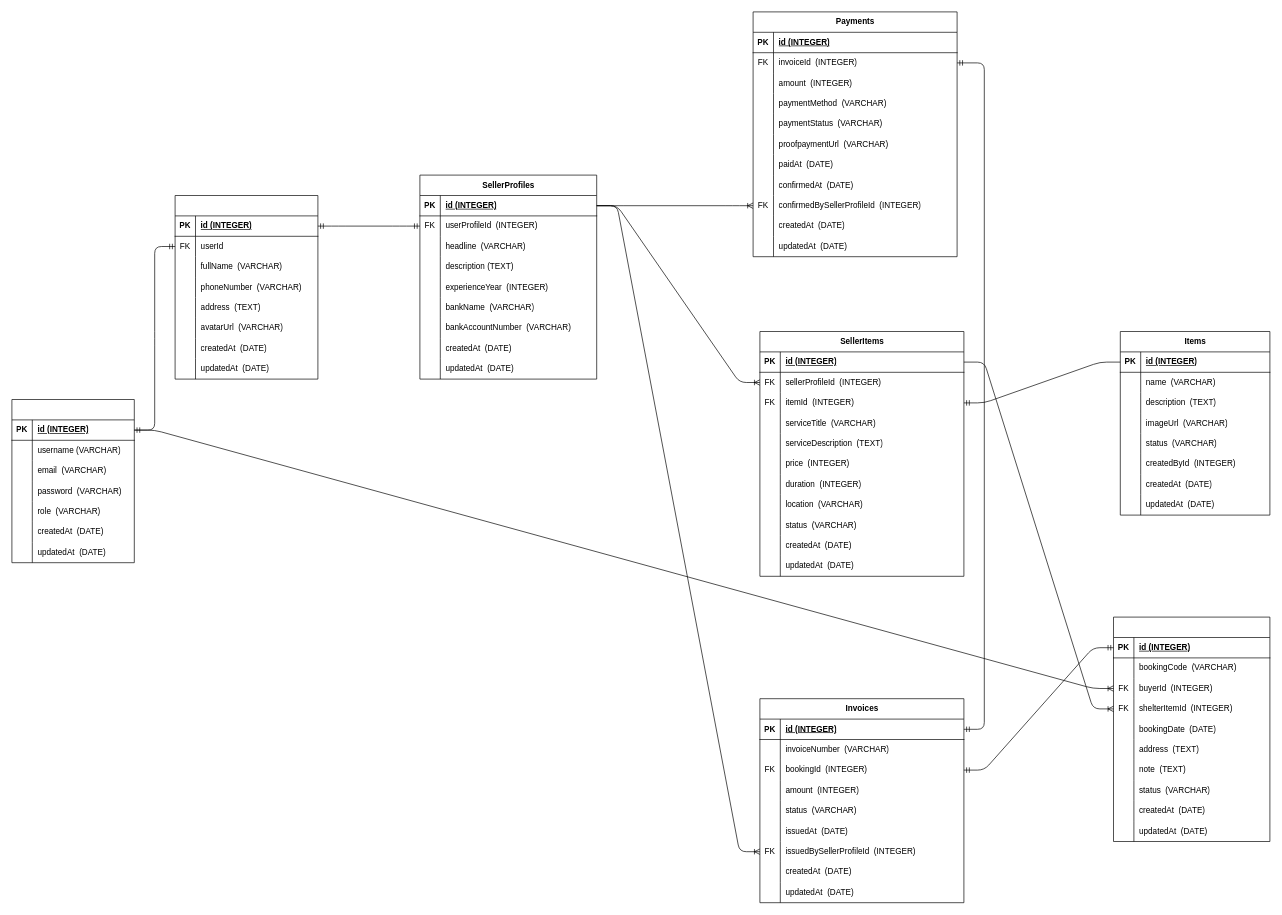
The diagram is 1282 pixels wide and 915 high, and some of its shapes have lost their labels. Each missing label, with the box of its shape:
Bookings: (1113, 616, 1270, 842)
UserProfiles: (174, 195, 318, 379)
Users: (11, 399, 134, 563)
